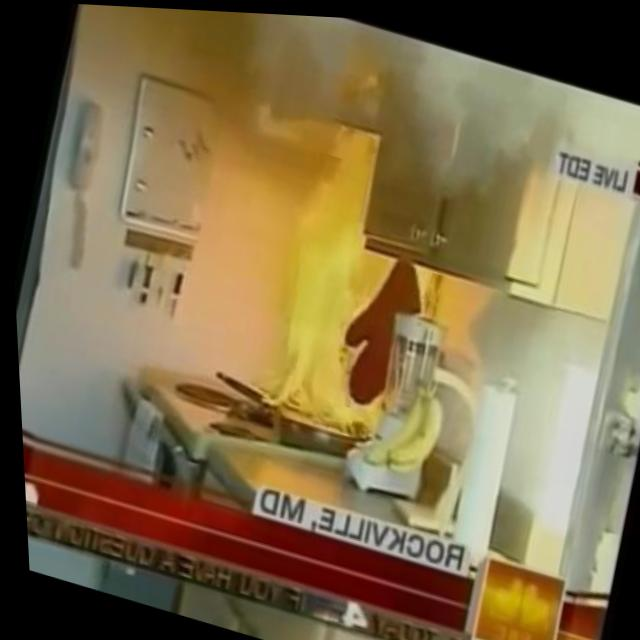fire: (241, 219, 437, 444), (227, 91, 387, 241)
